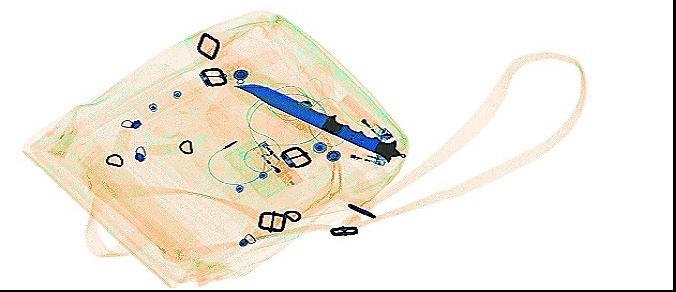knife: (230, 81, 405, 162)
lighter: (335, 92, 391, 142), (250, 137, 301, 187), (330, 141, 385, 166)
